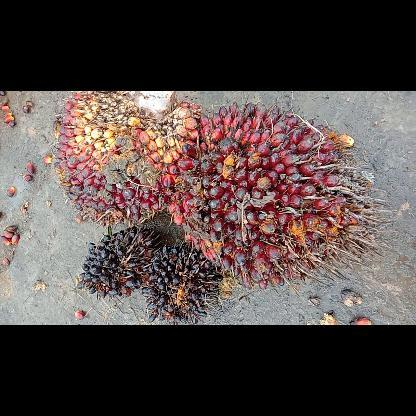TBS abnormal: (74, 223, 172, 298), (140, 240, 226, 324)
TBS masak: (162, 102, 395, 292), (51, 91, 203, 226)
